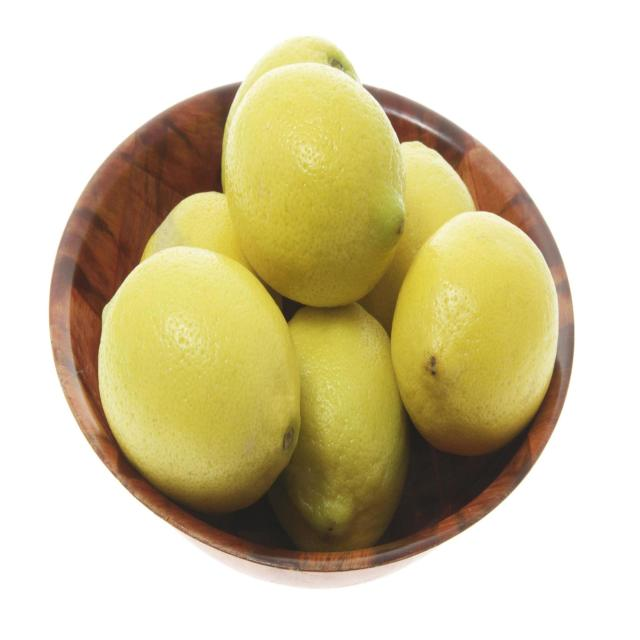lemon: (220, 58, 408, 310)
